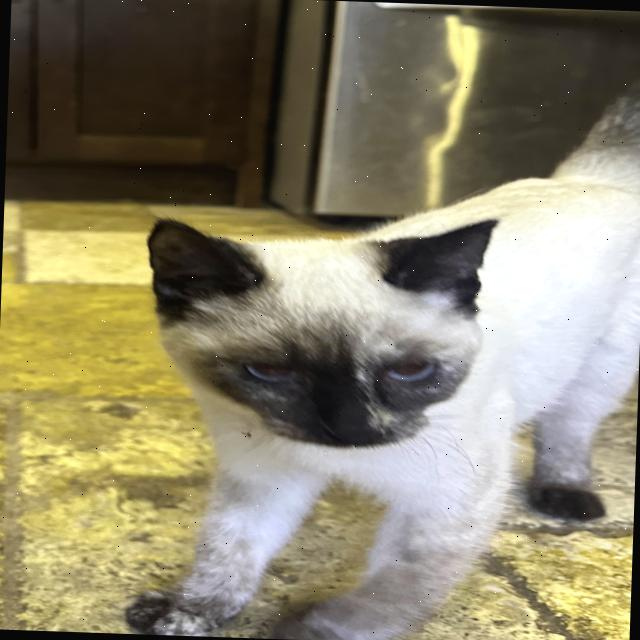siamese_cat: (125, 193, 520, 475)
